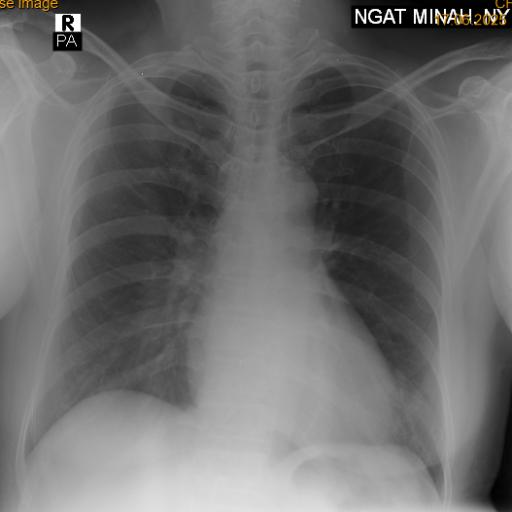kardiomegali: (16, 37, 452, 497)
